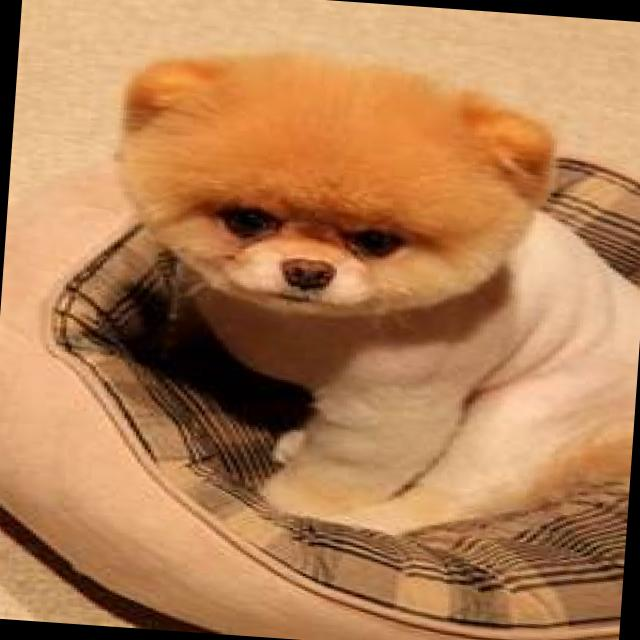animal: (33, 39, 640, 532)
